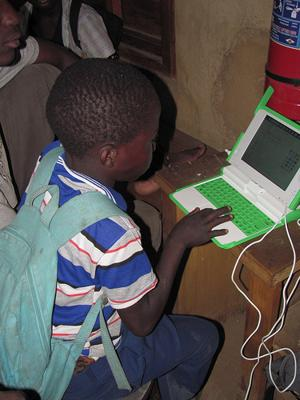person: (3, 56, 234, 400)
